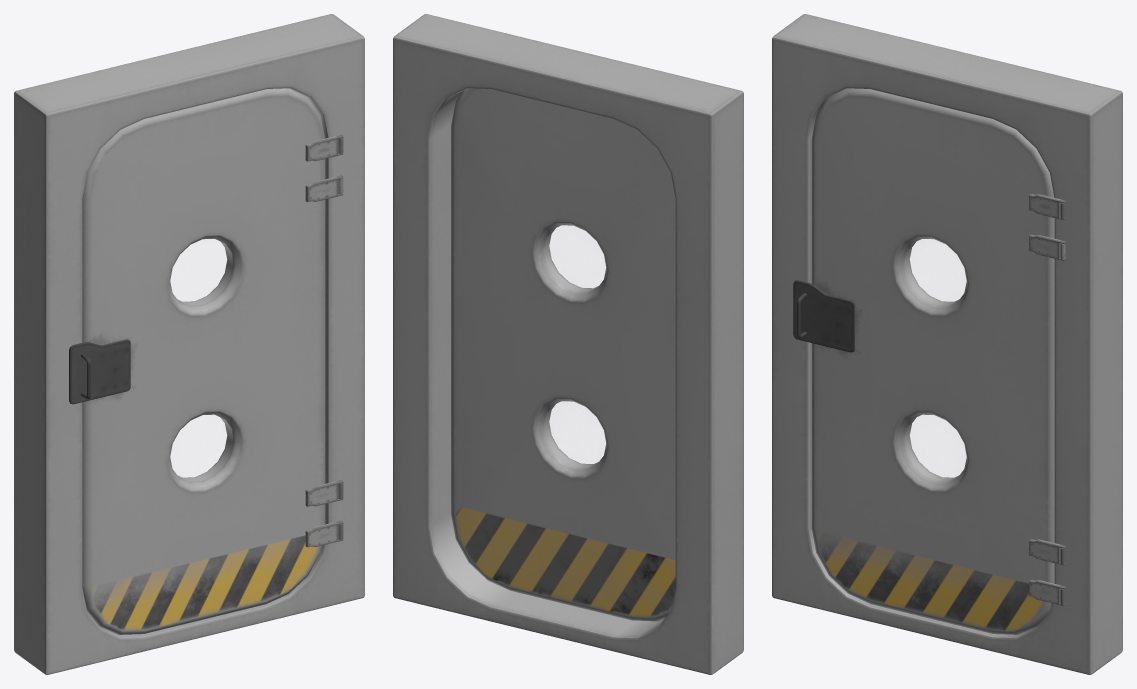
3 renders of one model, left to right at view 1: azimuth 30°, elevation 25°; view 2: azimuth 150°, elevation 25°; view 3: azimuth 330°, elevation 25°, orthographic.
Parts seen in each view (by area): view 1: Door_Low, Frame_Low, HandleThing_Low, Joint2_Low, Joint4_Low, Joint1_Low, Joint3_Low; view 2: Door_Low, Frame_Low; view 3: Door_Low, Frame_Low, HandleThing_Low, Joint4_Low, Joint1_Low, Joint2_Low, Joint3_Low.
Part boxes in pixels (box(x1,y1,x2,y2)): Door_Low: box(82, 88, 325, 634); Frame_Low: box(14, 14, 364, 674); HandleThing_Low: box(69, 339, 130, 404); Joint2_Low: box(305, 175, 343, 202); Joint4_Low: box(305, 520, 343, 547); Joint1_Low: box(305, 134, 343, 161); Joint3_Low: box(305, 480, 343, 506); Door_Low: box(451, 88, 675, 621); Frame_Low: box(393, 14, 743, 674); Door_Low: box(811, 88, 1054, 634); Frame_Low: box(772, 14, 1122, 674); HandleThing_Low: box(793, 280, 854, 352); Joint4_Low: box(1029, 579, 1066, 606); Joint1_Low: box(1029, 193, 1066, 220); Joint2_Low: box(1029, 234, 1066, 261); Joint3_Low: box(1029, 539, 1066, 565).
Bounding box in the file's own units: 122 × 204 × 27.4.
Materials: 1 (1 with a texture image).
